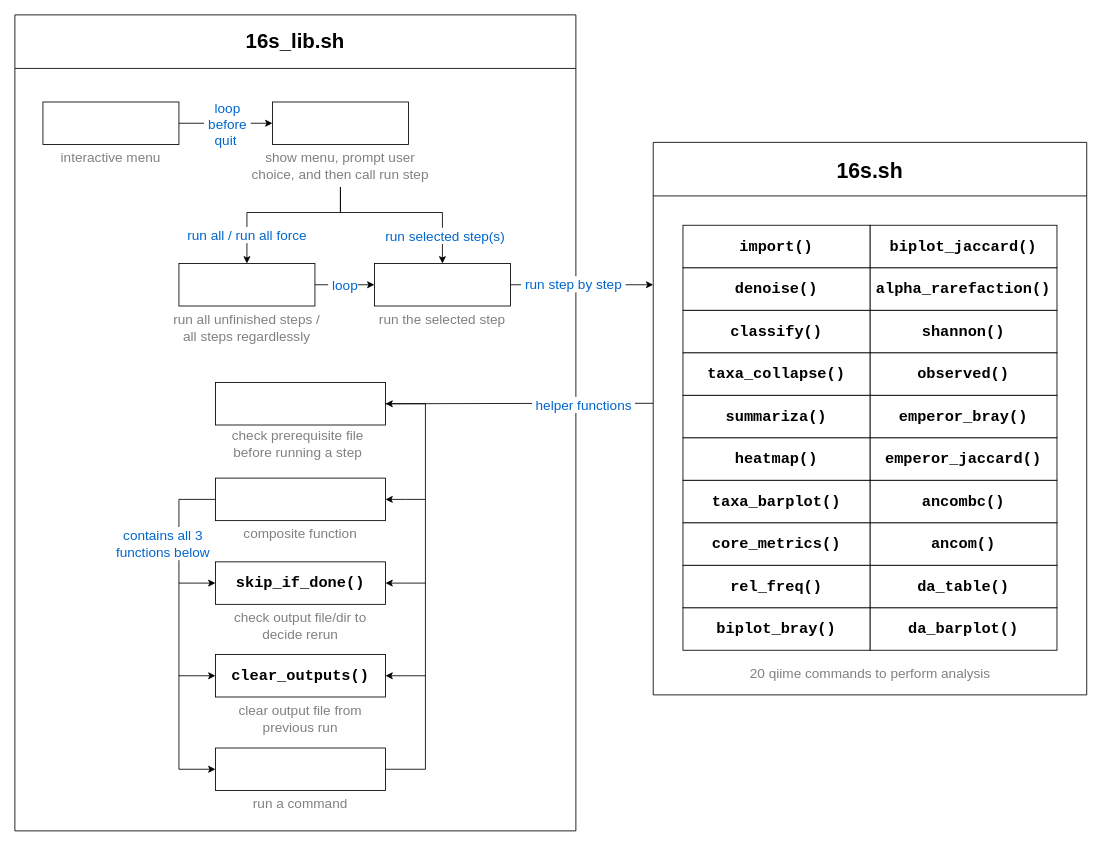
Image size: 1102x846. Some labels were removed from this diagram. The shapes that lost their labels are listed below. From the top down, each one's centre as x and y in pixels, then its label:
[110,122]: menu()
[340,122]: show_menu()
[246,284]: run_all()
[442,284]: run_step()
[300,403]: need()
[300,499]: prepare()
[300,768]: run()
